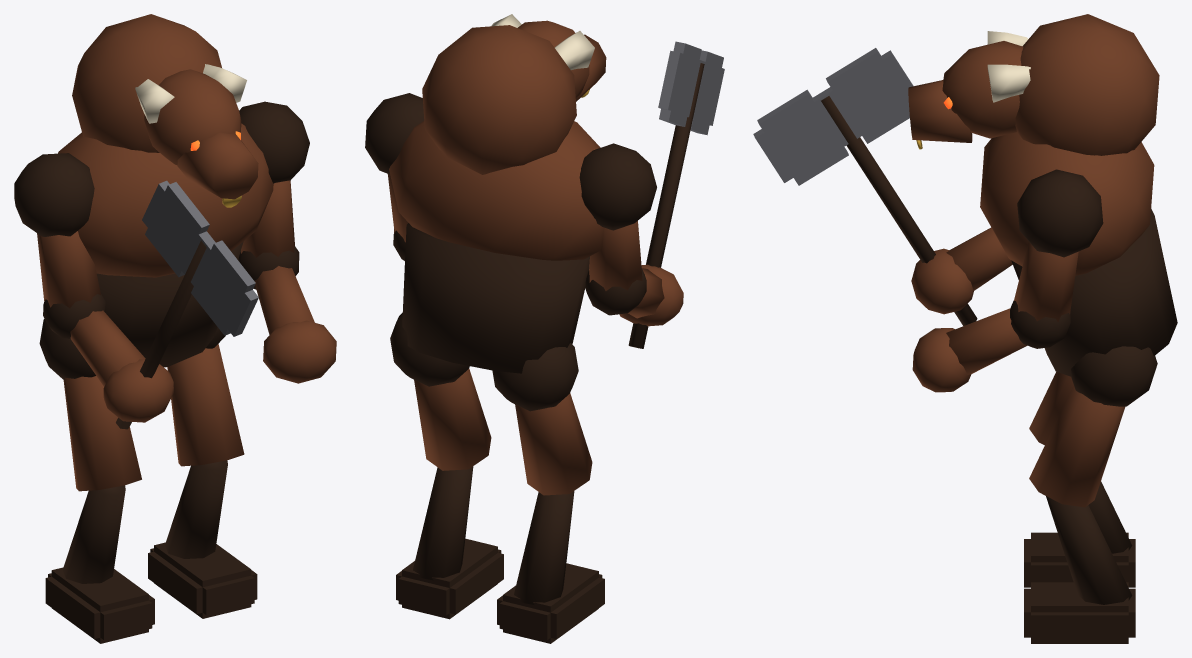
File: elven-minotaur.glb
The picture shows the model from 3 angles, left to right: view 1: azimuth 30°, elevation 25°; view 2: azimuth 150°, elevation 25°; view 3: azimuth 270°, elevation 25°; orthographic projection.
Visible parts, largest first — view 1: Body Mesh, ArmR Elbow Mesh, Head Mesh, LegA 0 Knee Mesh, LegB 0 Knee Mesh, ArmR Mesh, LegB 0 Mesh, ArmL Elbow Mesh, LegA 0 Mesh, ArmL Mesh; view 2: Body Mesh, ArmR Elbow Mesh, LegB 0 Knee Mesh, LegA 0 Knee Mesh, LegB 0 Mesh, ArmR Mesh, LegA 0 Mesh, ArmL Mesh, Head Mesh; view 3: Body Mesh, ArmR Elbow Mesh, LegA 0 Mesh, LegA 0 Knee Mesh, Head Mesh, ArmL Mesh, ArmL Elbow Mesh, LegB 0 Knee Mesh, LegB 0 Mesh.
Boxes of the visible parts, box(x1,y1,x2,y2) form: Body Mesh: box(58, 14, 273, 367); ArmR Elbow Mesh: box(43, 180, 258, 429); Head Mesh: box(135, 64, 258, 207); LegA 0 Knee Mesh: box(148, 460, 257, 618); LegB 0 Knee Mesh: box(45, 485, 154, 643); ArmR Mesh: box(14, 153, 100, 308); LegB 0 Mesh: box(39, 319, 141, 491); ArmL Elbow Mesh: box(238, 246, 336, 383); LegA 0 Mesh: box(167, 327, 244, 466); ArmL Mesh: box(239, 101, 309, 257); Body Mesh: box(389, 25, 604, 373); ArmR Elbow Mesh: box(585, 41, 724, 348); LegB 0 Knee Mesh: box(497, 491, 604, 643); LegA 0 Knee Mesh: box(396, 466, 503, 619); LegB 0 Mesh: box(492, 343, 592, 495); ArmR Mesh: box(579, 143, 656, 290); LegA 0 Mesh: box(390, 313, 491, 470); ArmL Mesh: box(365, 93, 424, 242); Head Mesh: box(491, 14, 606, 101); Body Mesh: box(980, 14, 1177, 376); ArmR Elbow Mesh: box(753, 48, 1012, 325); LegA 0 Mesh: box(1029, 346, 1157, 507); LegA 0 Knee Mesh: box(1024, 496, 1135, 643); Head Mesh: box(908, 31, 1030, 149); ArmL Mesh: box(1014, 169, 1103, 322); ArmL Elbow Mesh: box(912, 300, 1070, 392); LegB 0 Knee Mesh: box(1024, 481, 1135, 587); LegB 0 Mesh: box(1029, 372, 1073, 445).
Size of the model in its own units: 1.23 by 2.4 by 1.58.
